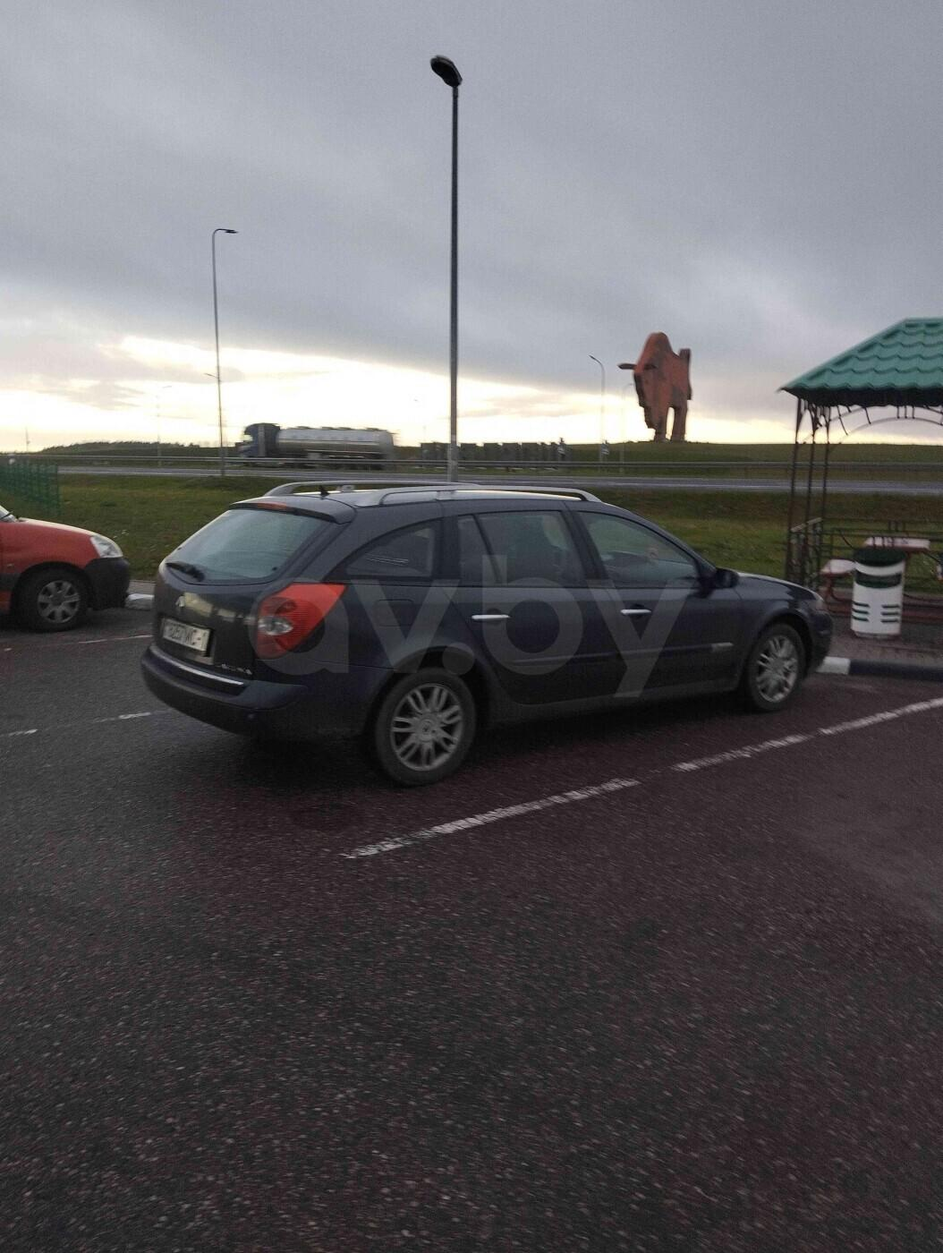Laguna_2005-2007: (141, 476, 839, 782)
